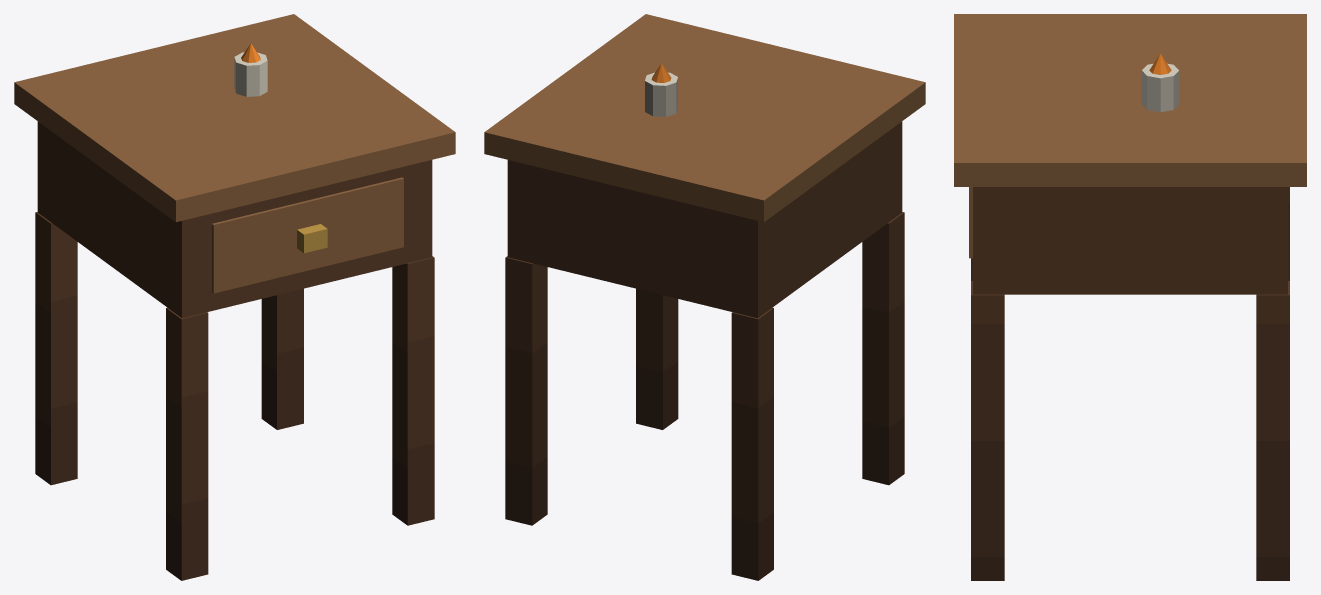
The model's file is end_table.glb.
The picture shows the model from 3 angles, left to right: view 1: azimuth 30°, elevation 25°; view 2: azimuth 150°, elevation 25°; view 3: azimuth 270°, elevation 25°; orthographic projection. The views are drawn at different scales.
Bounding box in the file's own units: 0.47 × 0.7 × 0.47.
Materials: 1 (1 with a texture image).
